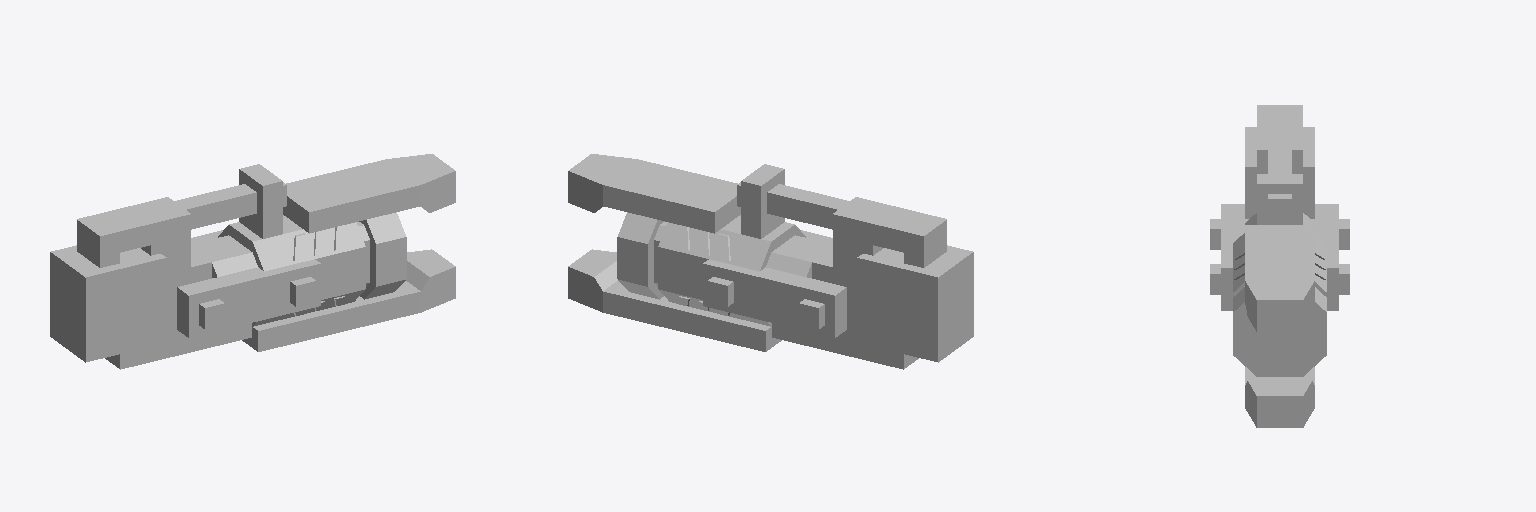
The model's file is testitem.obj.
3 renders of one model, left to right at view 1: azimuth 30°, elevation 25°; view 2: azimuth 150°, elevation 25°; view 3: azimuth 270°, elevation 25°, orthographic.
Visible parts, largest first — view 1: Sphere, Cube.021_Cube.023; view 2: Sphere, Cube.021_Cube.023; view 3: Sphere, Sphere.001.
Part boxes in pixels (bbox=[...]): Sphere: bbox=[50, 154, 455, 369]; Cube.021_Cube.023: bbox=[293, 225, 346, 315]; Sphere: bbox=[568, 154, 973, 369]; Cube.021_Cube.023: bbox=[677, 225, 730, 315]; Sphere: bbox=[1210, 105, 1349, 427]; Sphere.001: bbox=[1245, 311, 1314, 365].
Bounding box in the file's own units: 2.31 × 0.9375 × 0.75.